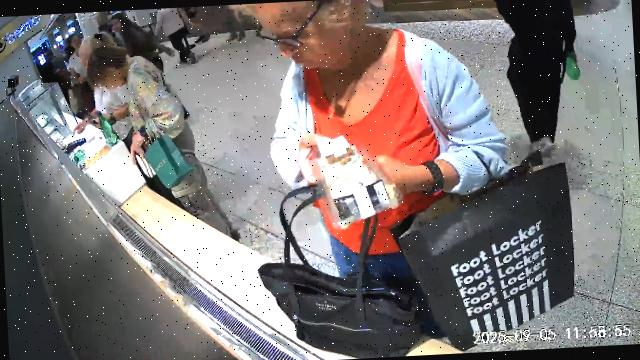sushi-box: (308, 136, 404, 230), (77, 141, 112, 171)
